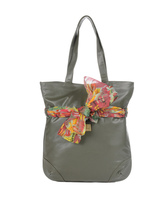bag: (33, 13, 141, 186)
